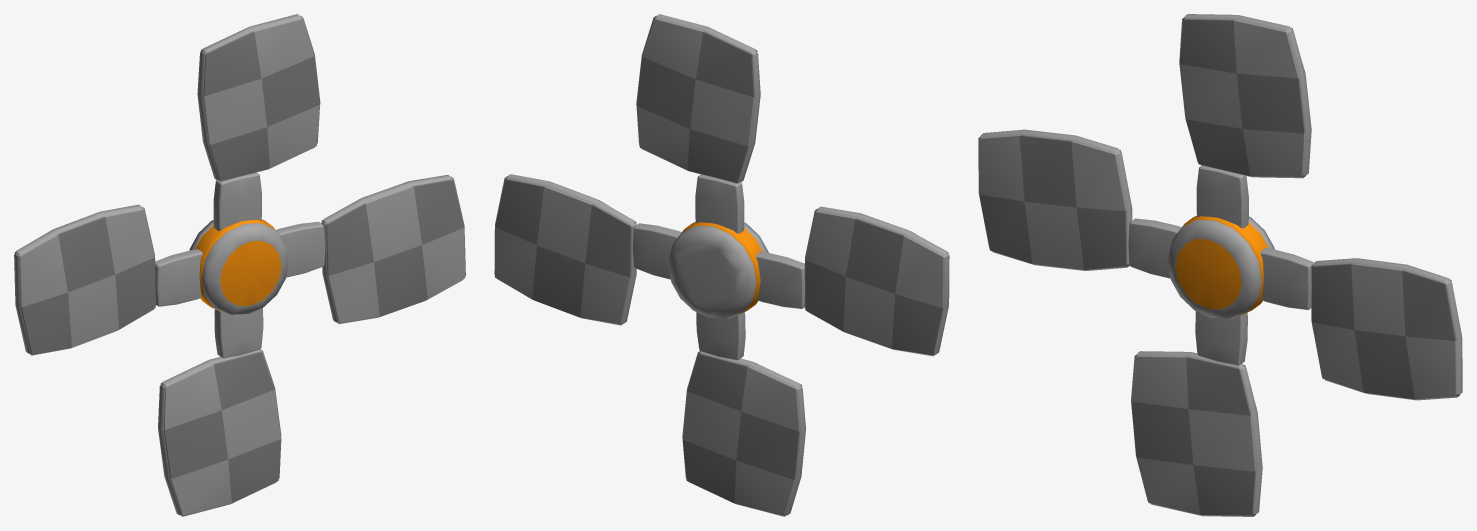
The model's file is kin_golf_windmill02.fbx.
3 renders of one model, left to right at view 1: azimuth 30°, elevation 25°; view 2: azimuth 150°, elevation 25°; view 3: azimuth 330°, elevation 25°, orthographic. The views are drawn at different scales.
Visible parts, largest first — view 1: env_golf_windmill02; view 2: env_golf_windmill02; view 3: env_golf_windmill02.
Part boxes in pixels (<box>): env_golf_windmill02: <box>14,14,465,516</box>; env_golf_windmill02: <box>494,14,949,516</box>; env_golf_windmill02: <box>978,14,1462,516</box>.
Bounding box in the file's own units: 19.74 × 19.71 × 2.
